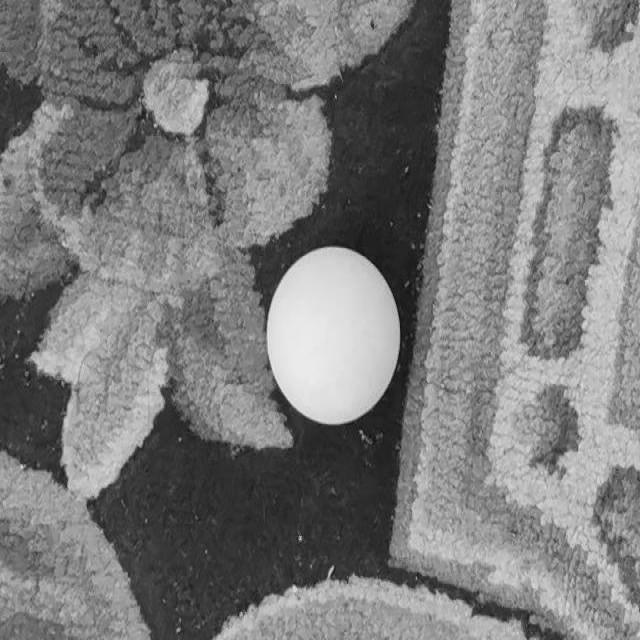ping-pong-ball: (266, 248, 400, 424)
